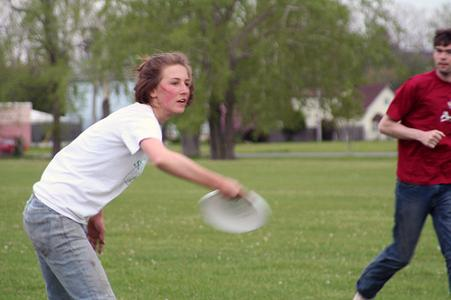person: (23, 51, 249, 300)
